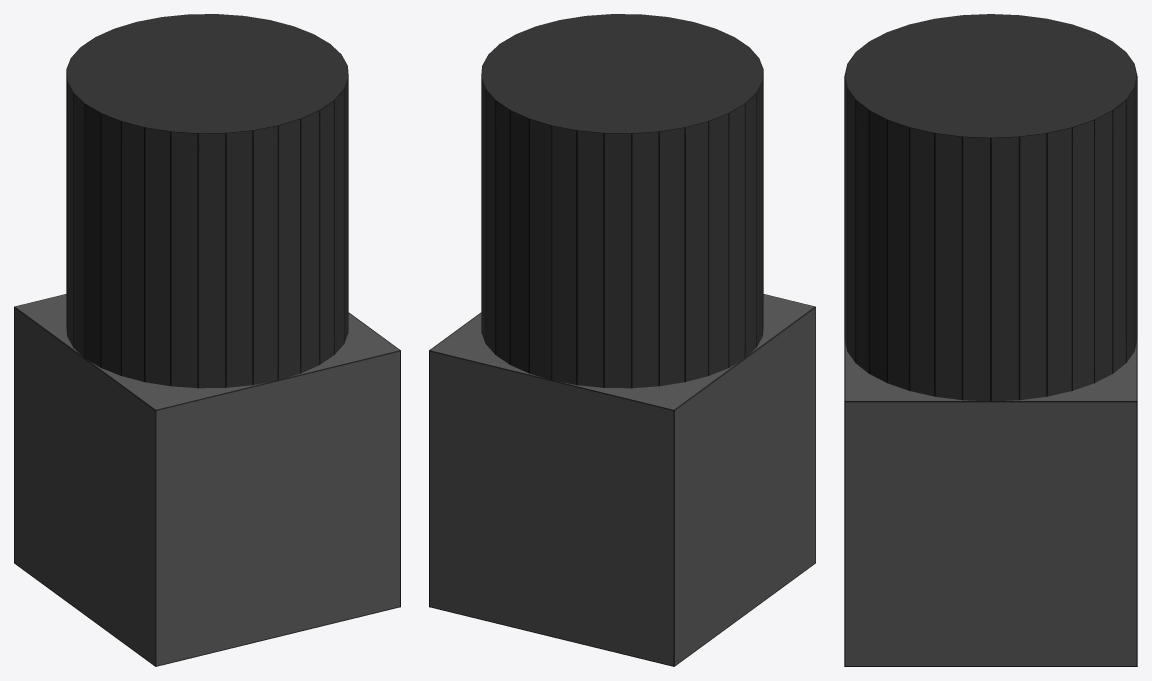
3 views of the same model, side by side, from view 1: azimuth 30°, elevation 25°; view 2: azimuth 150°, elevation 25°; view 3: azimuth 270°, elevation 25° (orthographic). The views are drawn at different scales.
Parts seen in each view (by area): view 1: Cube, Cylinder; view 2: Cube, Cylinder; view 3: Cylinder, Cube.
Boxes of the visible parts, left/top/right/bottom form: Cube: left=14, top=294, right=400, bottom=666; Cylinder: left=66, top=14, right=348, bottom=388; Cube: left=429, top=294, right=815, bottom=666; Cylinder: left=481, top=14, right=763, bottom=388; Cylinder: left=844, top=14, right=1137, bottom=401; Cube: left=844, top=340, right=1137, bottom=666.
Size of the model in its own units: 200 by 399 by 200.
